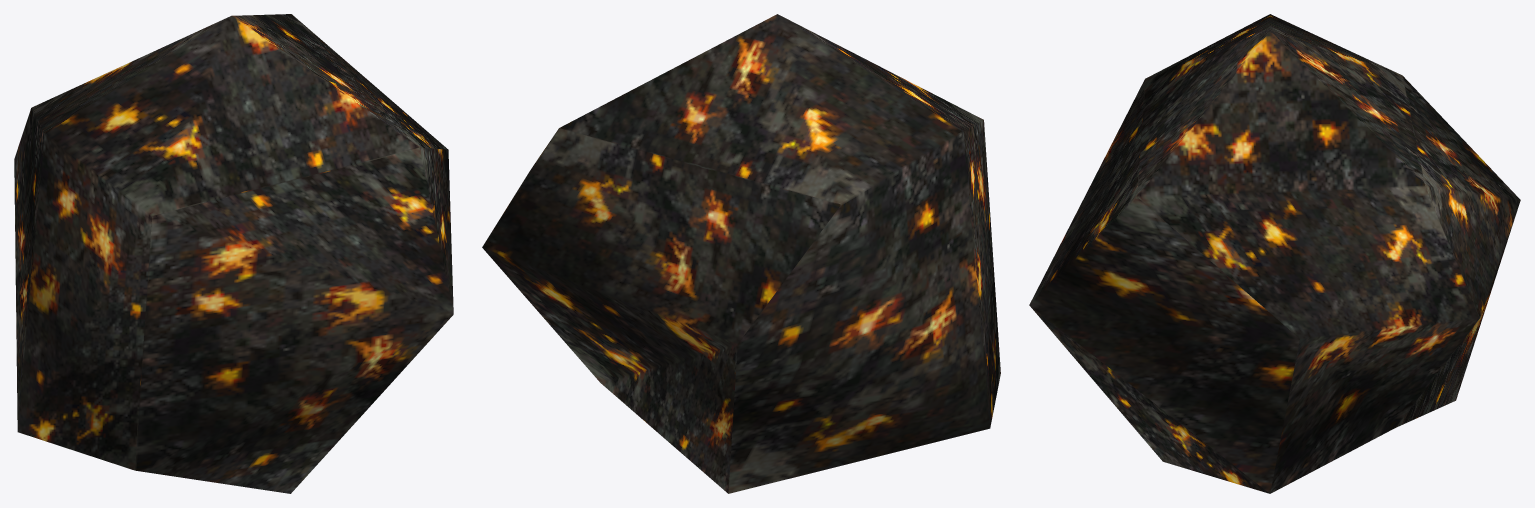
The model's file is asteroid_moltenrock_radial_s01_l3.fbx.
The picture shows the model from 3 angles, left to right: view 1: azimuth 30°, elevation 25°; view 2: azimuth 150°, elevation 25°; view 3: azimuth 270°, elevation 25°; orthographic projection. The views are drawn at different scales.
Visible parts, largest first — view 1: mesh_node; view 2: mesh_node; view 3: mesh_node.
Boxes of the visible parts, left/top/right/bottom form: mesh_node: left=14, top=14, right=453, bottom=493; mesh_node: left=482, top=14, right=1000, bottom=493; mesh_node: left=1029, top=14, right=1520, bottom=493.
Size of the model in its own units: 6.1 by 5.74 by 5.97.
Materials: 1 (1 with a texture image).
